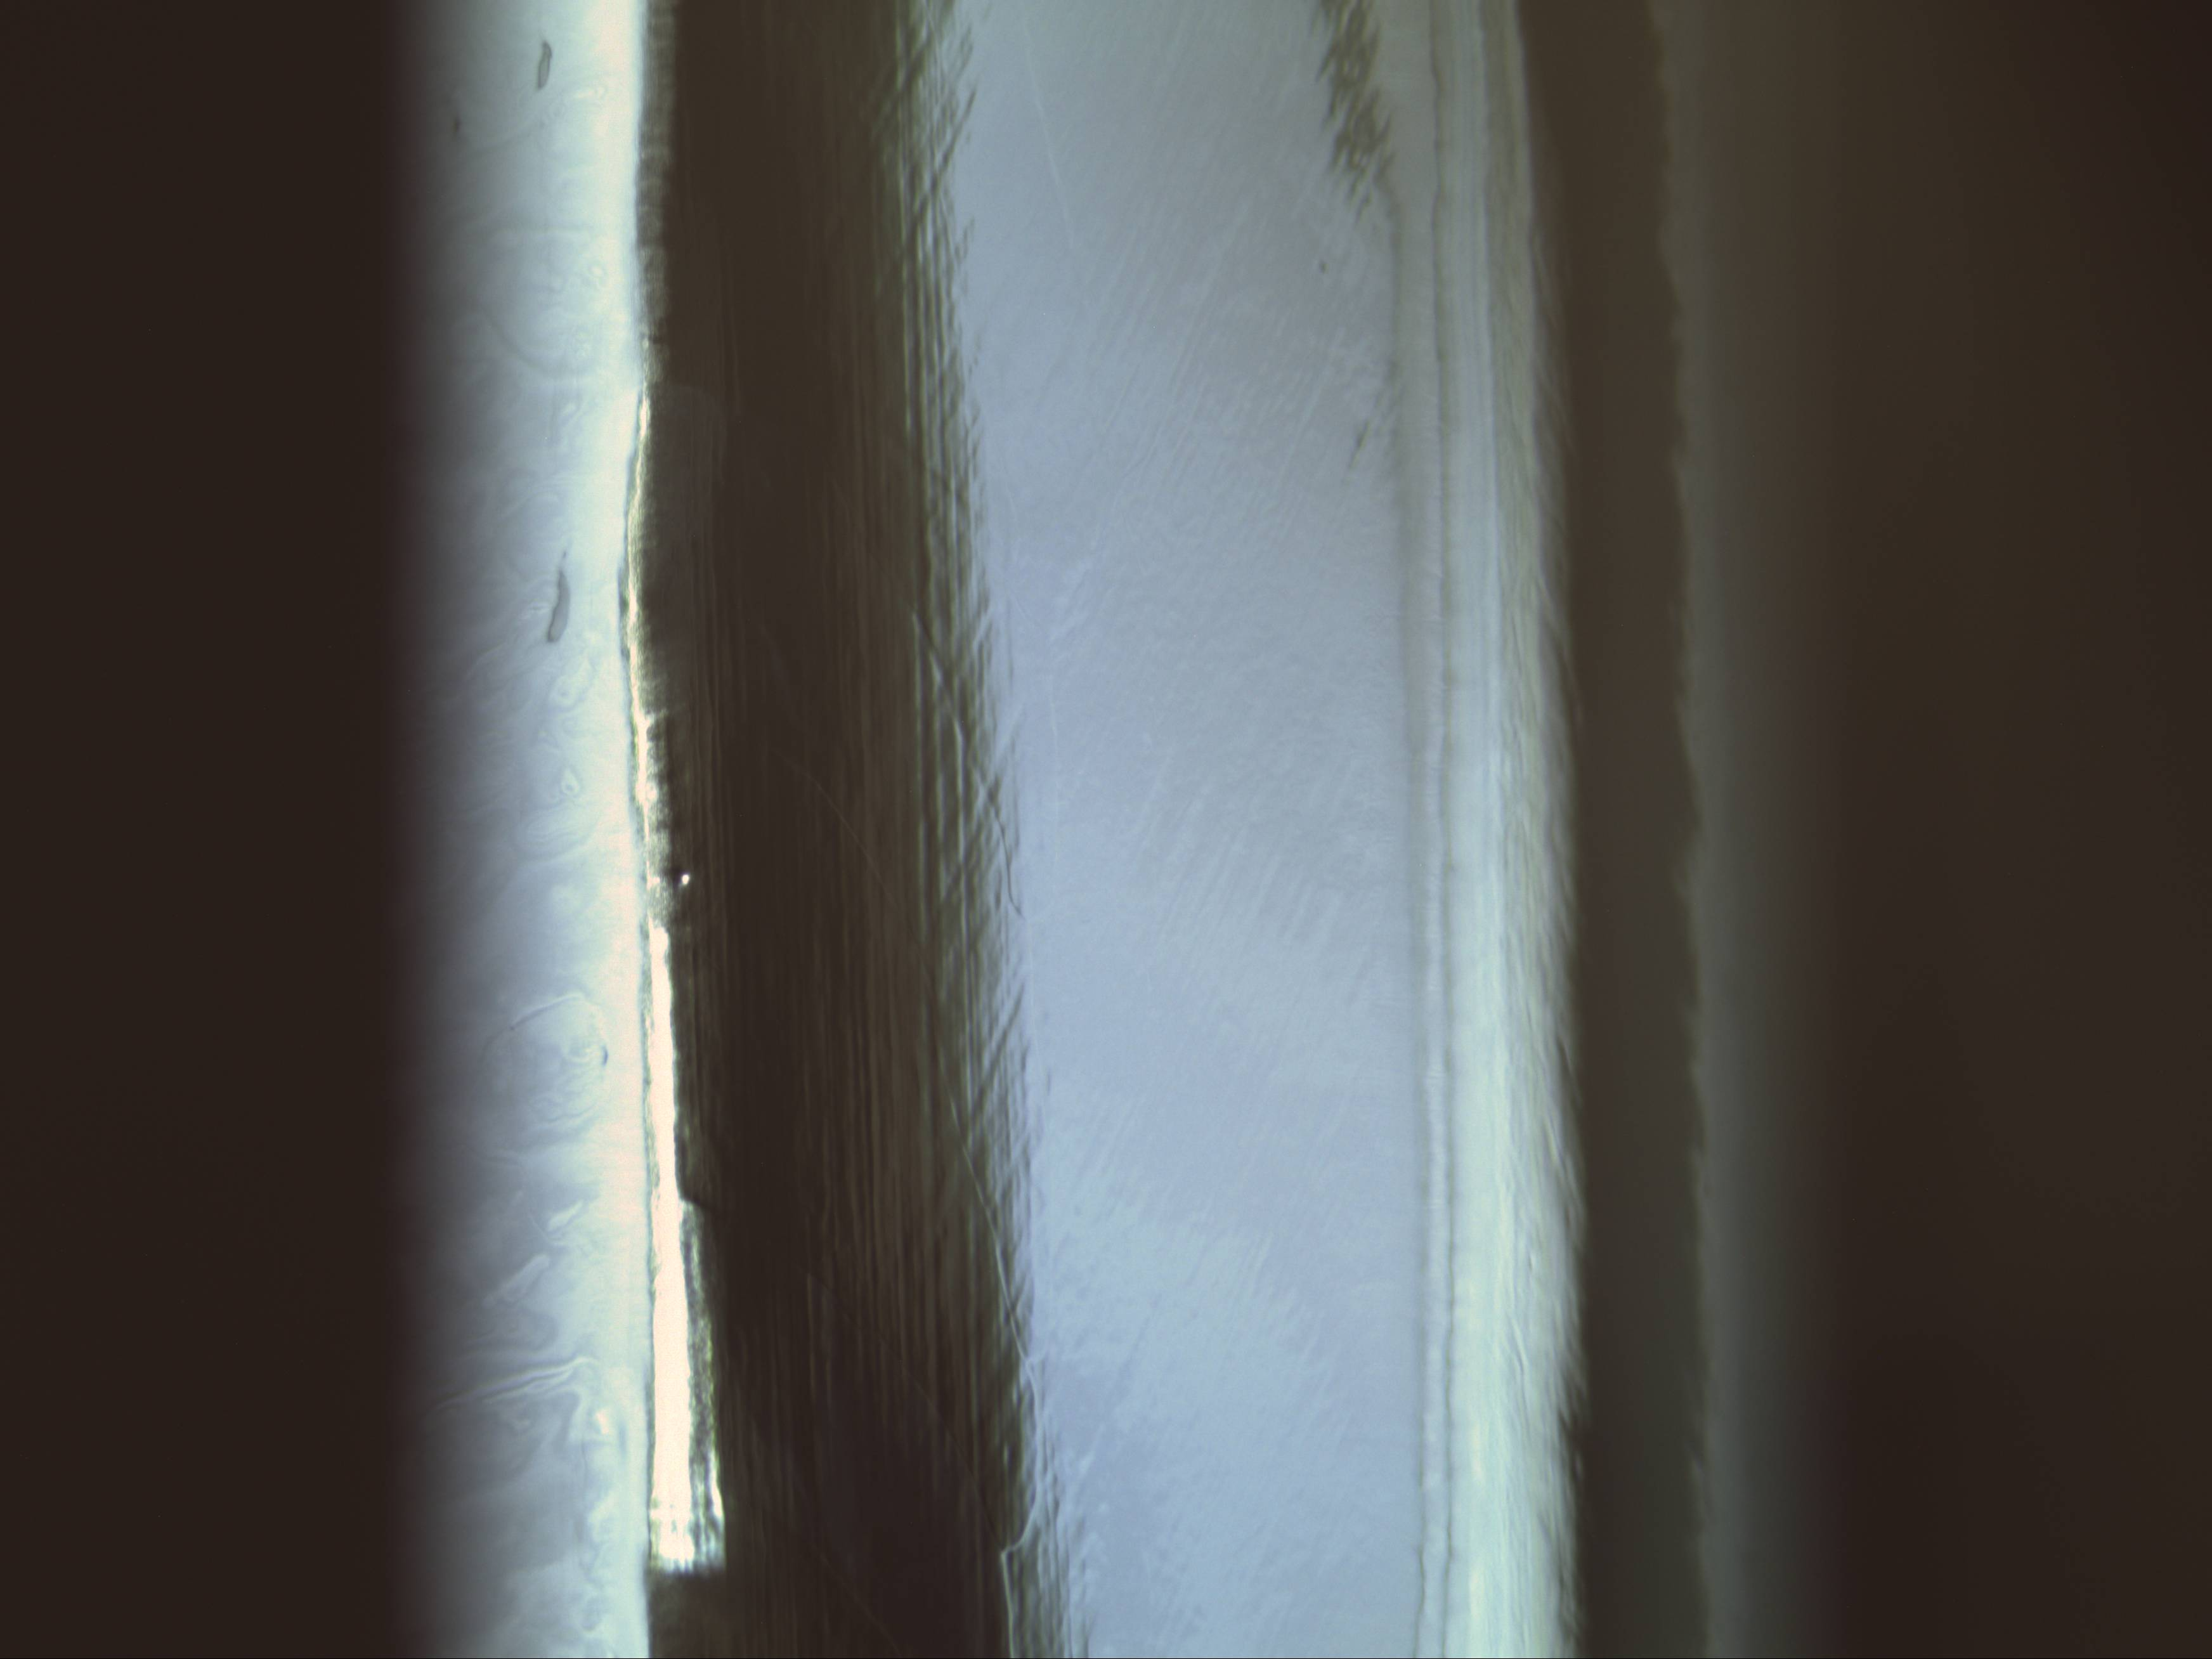defect: (662, 859, 700, 890)
